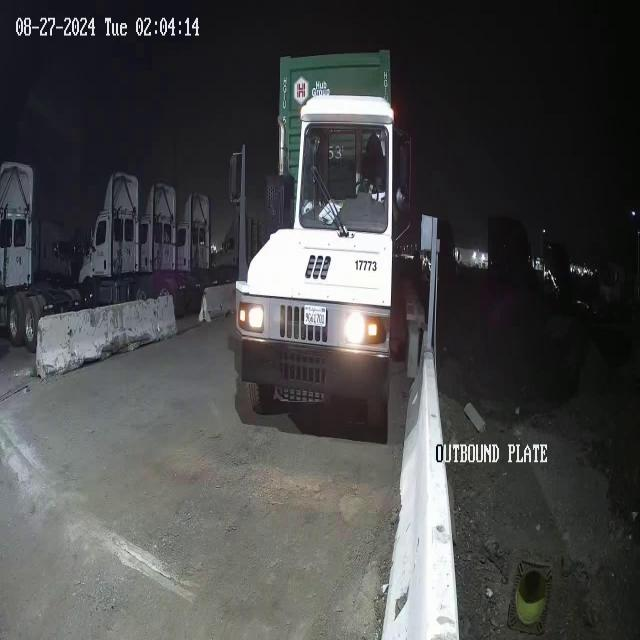TRUCK_OUT: (228, 49, 426, 442)
